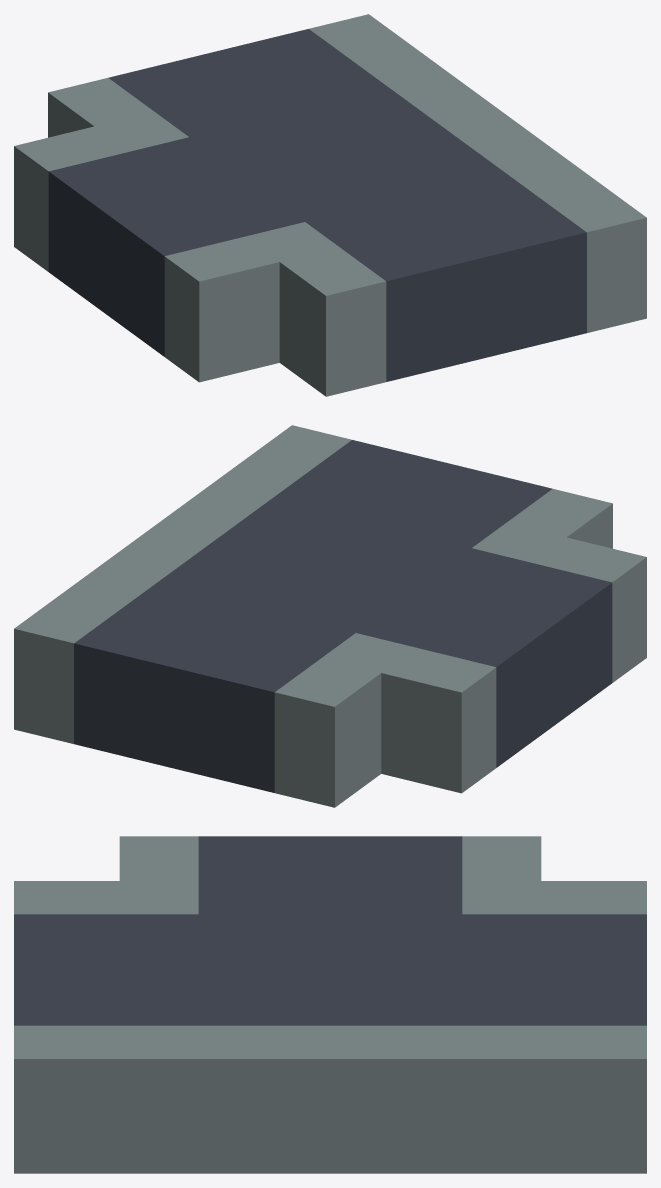
Rendered from road_part_03.FBX.
3 renders of one model, top to bottom at view 1: azimuth 30°, elevation 25°; view 2: azimuth 150°, elevation 25°; view 3: azimuth 270°, elevation 25°, orthographic. The views are drawn at different scales.
Visible parts, largest first — view 1: road_part_03; view 2: road_part_03; view 3: road_part_03.
Part boxes in pixels (x1,y1,x2,y2): road_part_03: (14,14,646,396); road_part_03: (14,425,646,807); road_part_03: (14,836,646,1173).
Size of the model in its own units: 417 by 500 by 100.
Materials: 1 (1 with a texture image).
